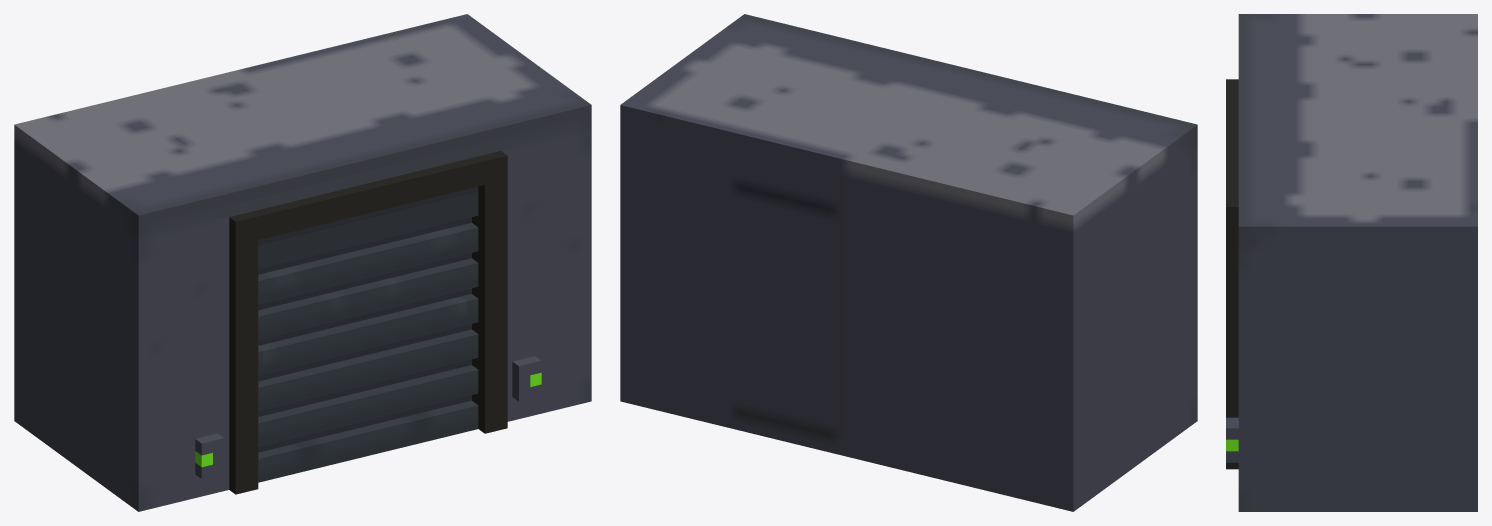
The model's file is BuildingBlock-20.fbx.
3 renders of one model, left to right at view 1: azimuth 30°, elevation 25°; view 2: azimuth 150°, elevation 25°; view 3: azimuth 270°, elevation 25°, orthographic. The views are drawn at different scales.
Parts seen in each view (by area): view 1: BuildingBlock_20; view 2: BuildingBlock_20; view 3: BuildingBlock_20.
Part boxes in pixels (x1,y1,x2,y2): BuildingBlock_20: [14, 14, 591, 511]; BuildingBlock_20: [620, 14, 1197, 511]; BuildingBlock_20: [1226, 14, 1477, 511].
Size of the model in its own units: 400 by 250 by 200.
